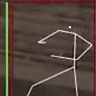hacks_3: (5, 1, 96, 96)
